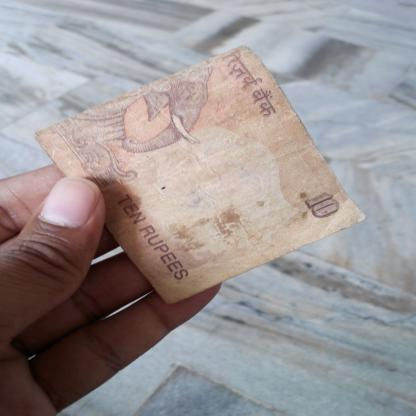Old10Back: (34, 45, 367, 306)
